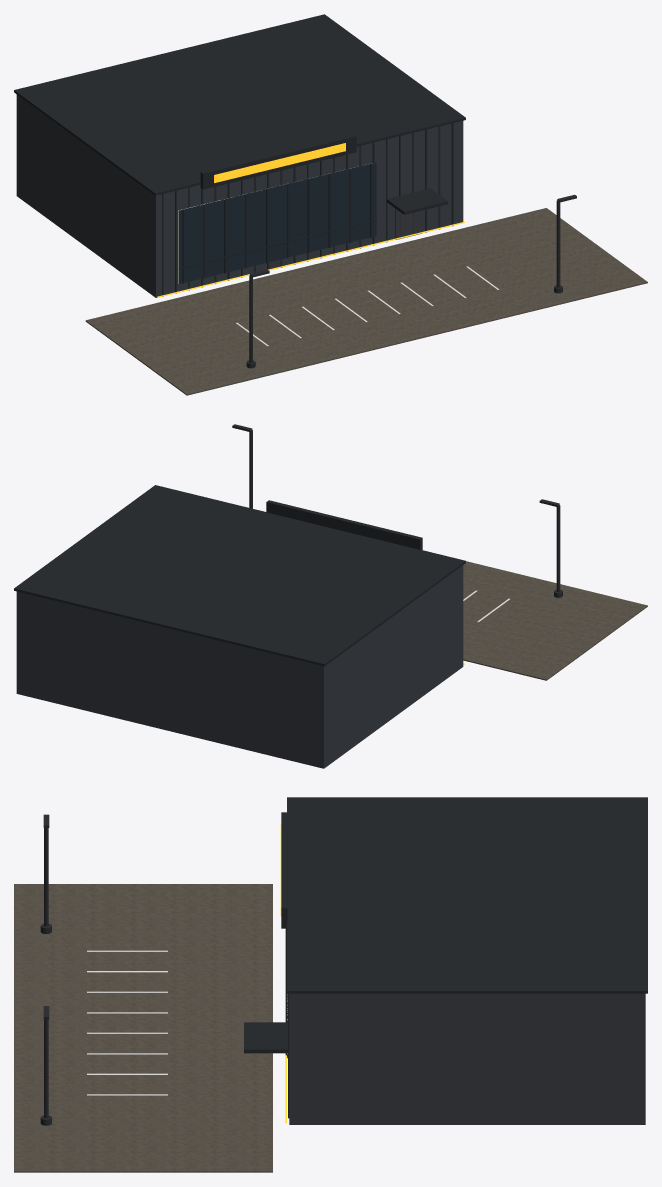
File: OT_Gym_A.glb
3 views of the same model, one above another, from view 1: azimuth 30°, elevation 25°; view 2: azimuth 150°, elevation 25°; view 3: azimuth 270°, elevation 25° (orthographic). The views are drawn at different scales.
Visible parts, largest first — view 1: OT_Gym_A_DarkFrame__25282c, OT_Gym_A_Pavement, OT_Gym_A_GymGrey__3a3e44, OT_Gym_A_Glass__22303a, OT_Gym_A_Rib__2a2e33, OT_Gym_A_NeonOrange__ff7a1a, OT_Gym_A_PoleDark__2a2c30, OT_Gym_A_Door__3a3d42, OT_Gym_A_PaintWhite__f0f0ee; view 2: OT_Gym_A_DarkFrame__25282c, OT_Gym_A_GymGrey__3a3e44, OT_Gym_A_Pavement, OT_Gym_A_PoleDark__2a2c30; view 3: OT_Gym_A_DarkFrame__25282c, OT_Gym_A_Pavement, OT_Gym_A_GymGrey__3a3e44, OT_Gym_A_PoleDark__2a2c30, OT_Gym_A_PaintWhite__f0f0ee.
Boxes of the visible parts, x1,y1,x2,y2 form: OT_Gym_A_DarkFrame__25282c: (14, 14, 465, 283); OT_Gym_A_Pavement: (85, 208, 647, 395); OT_Gym_A_GymGrey__3a3e44: (16, 94, 463, 297); OT_Gym_A_Glass__22303a: (178, 162, 376, 283); OT_Gym_A_Rib__2a2e33: (162, 123, 453, 296); OT_Gym_A_NeonOrange__ff7a1a: (157, 143, 464, 297); OT_Gym_A_PoleDark__2a2c30: (246, 194, 576, 368); OT_Gym_A_Door__3a3d42: (395, 208, 422, 239); OT_Gym_A_PaintWhite__f0f0ee: (236, 266, 499, 346); OT_Gym_A_DarkFrame__25282c: (14, 485, 465, 666); OT_Gym_A_GymGrey__3a3e44: (16, 565, 463, 768); OT_Gym_A_Pavement: (463, 561, 647, 680); OT_Gym_A_PoleDark__2a2c30: (232, 424, 562, 597); OT_Gym_A_DarkFrame__25282c: (244, 797, 647, 1055); OT_Gym_A_Pavement: (14, 884, 272, 1172); OT_Gym_A_GymGrey__3a3e44: (289, 993, 645, 1124); OT_Gym_A_PoleDark__2a2c30: (40, 814, 51, 1125); OT_Gym_A_PaintWhite__f0f0ee: (87, 950, 167, 1095).
Bounding box in the file's own units: 42 × 10.1 × 39.15.
13 materials, 1 textured.
